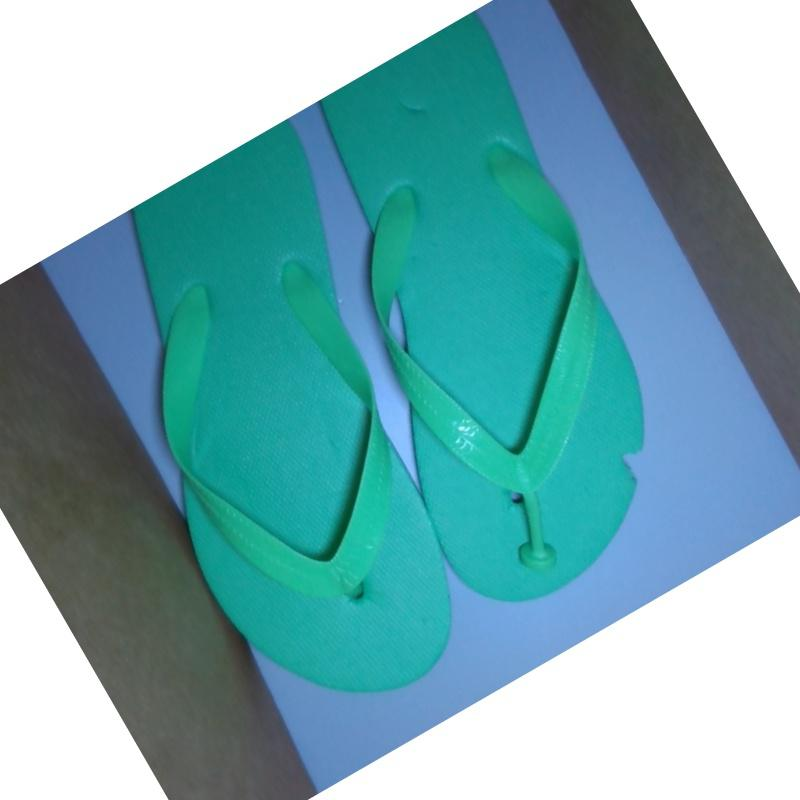chipped: (610, 421, 660, 504)
detached: (502, 521, 575, 578)
